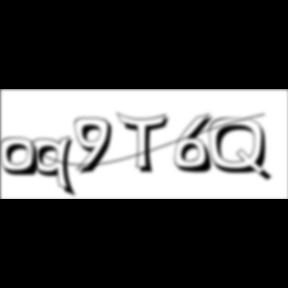6: (174, 112, 220, 176)
9: (74, 117, 120, 177)
Q: (209, 117, 275, 184)
T: (117, 112, 175, 176)
o: (0, 137, 42, 179)
q: (32, 135, 80, 200)
